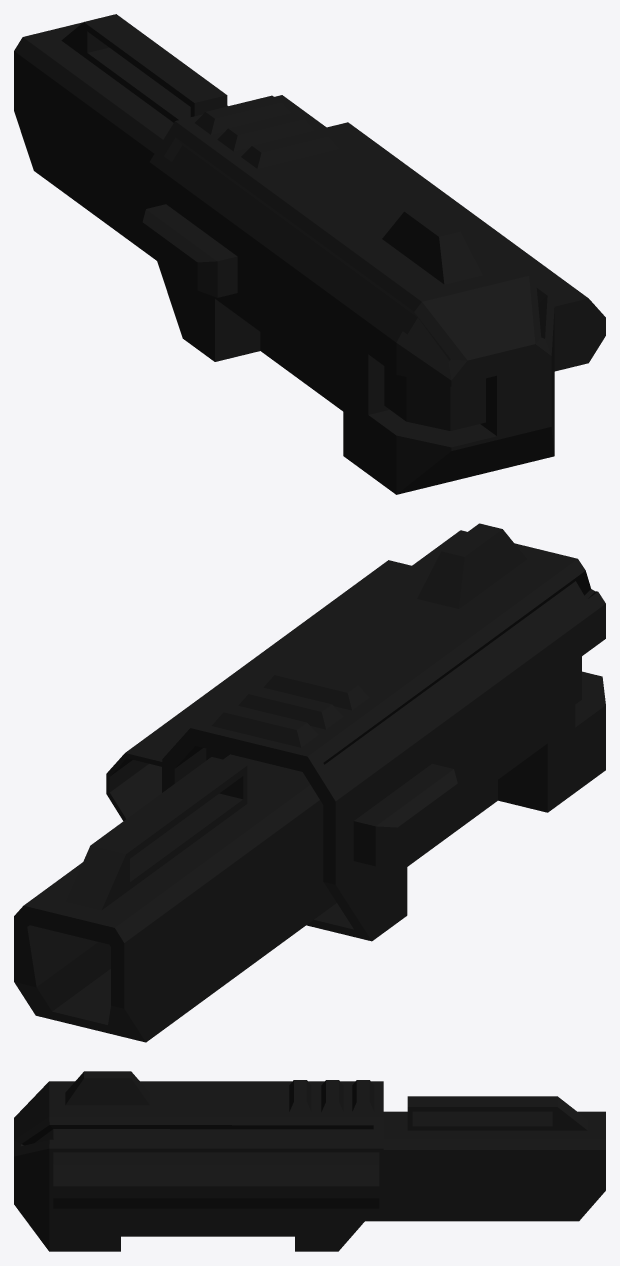
File: big.fbx
3 renders of one model, top to bottom at view 1: azimuth 30°, elevation 25°; view 2: azimuth 150°, elevation 25°; view 3: azimuth 270°, elevation 25°, orthographic. The views are drawn at different scales.
Visible parts, largest first — view 1: big; view 2: big; view 3: big.
Boxes of the visible parts, left/top/right/bottom form: big: left=14, top=14, right=605, bottom=494; big: left=14, top=523, right=605, bottom=1042; big: left=14, top=1071, right=605, bottom=1251.
Size of the model in its own units: 188 by 584 by 164.
